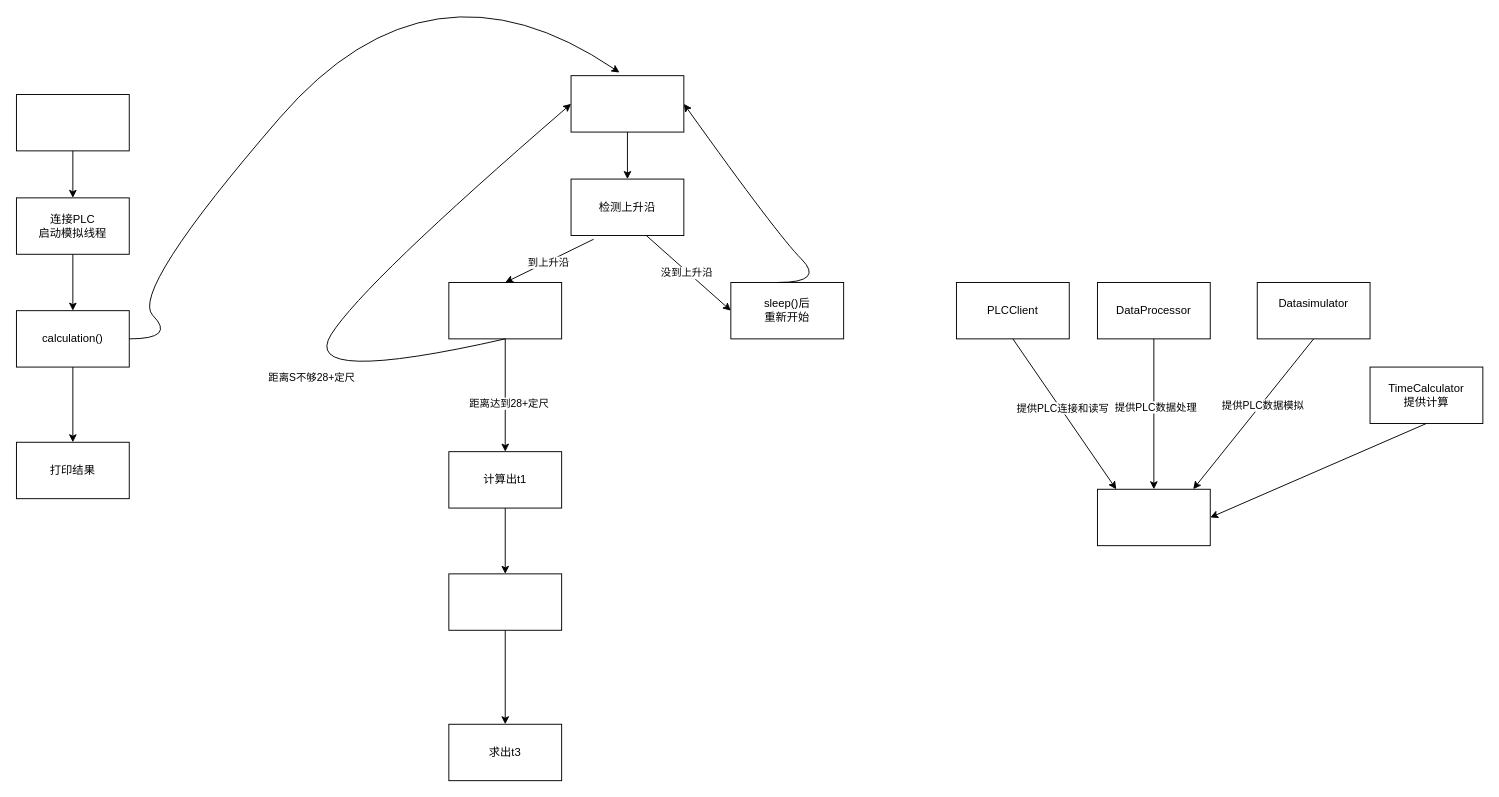
Some shapes in this 1499 by 797 pixel diagram are drawn without their labels. Each missing label, with the centre of its shape:
Conn(): (72,122)
ProductionMonitor 协调: (1153,517)
从t1积分到12m: (505,601)
倒序遍历队列 积分: (505,310)
读数据并存入队列: (627,103)
